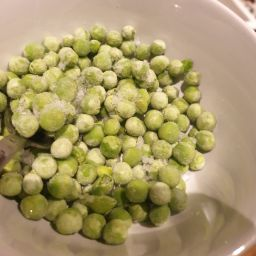Peas: (2, 27, 232, 250), (12, 107, 199, 251), (17, 50, 182, 154)
